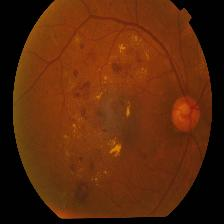diabetic_retinopatic: (171, 96, 200, 134)
